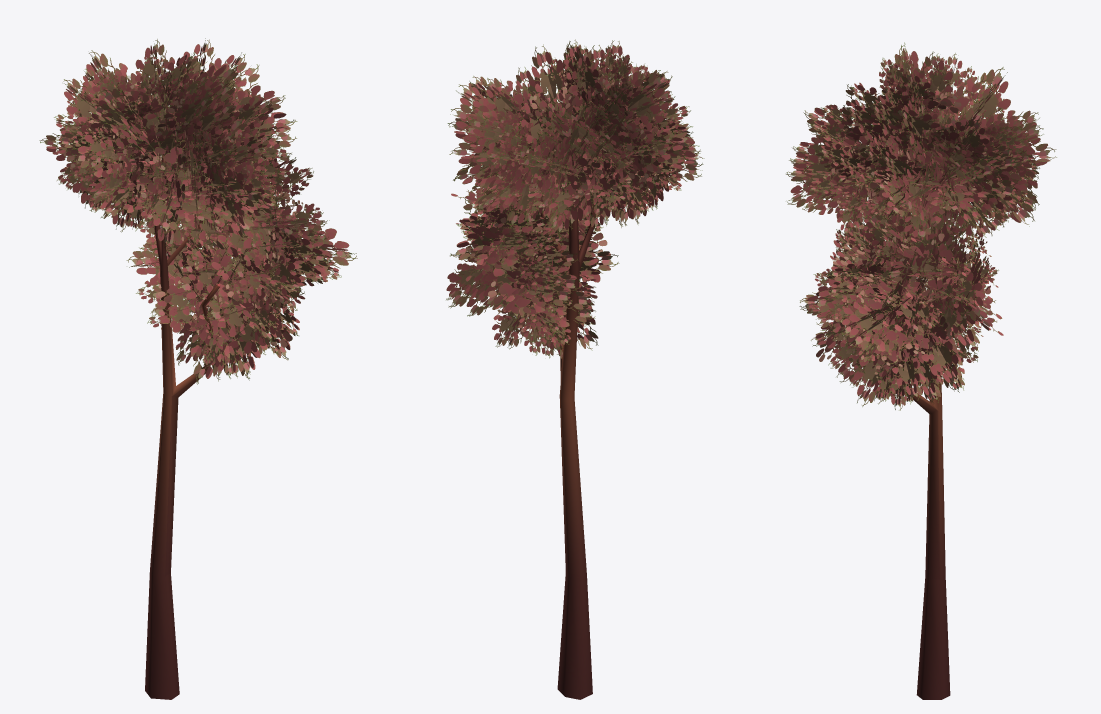
Rendered from Tree_3D.fbx.
The picture shows the model from 3 angles, left to right: view 1: azimuth 30°, elevation 25°; view 2: azimuth 150°, elevation 25°; view 3: azimuth 270°, elevation 25°; orthographic projection. The views are drawn at different scales.
Parts seen in each view (by area): view 1: Tree_3D; view 2: Tree_3D; view 3: Tree_3D.
Part boxes in pixels (<box>): Tree_3D: <box>39,38,357,699</box>; Tree_3D: <box>446,39,704,699</box>; Tree_3D: <box>786,42,1056,699</box>.
Bounding box in the file's own units: 394 × 843 × 378.
